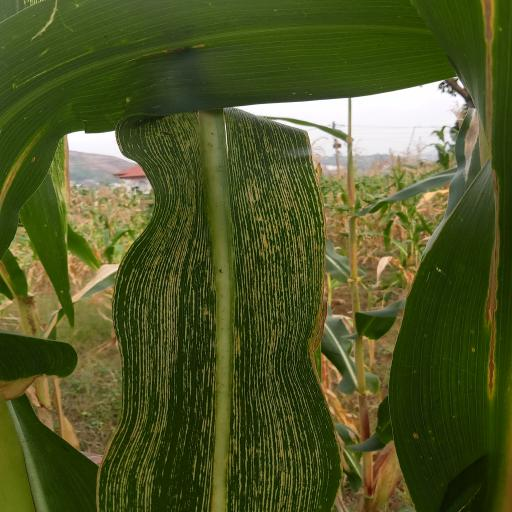Corn_Streak: (84, 74, 350, 512)
